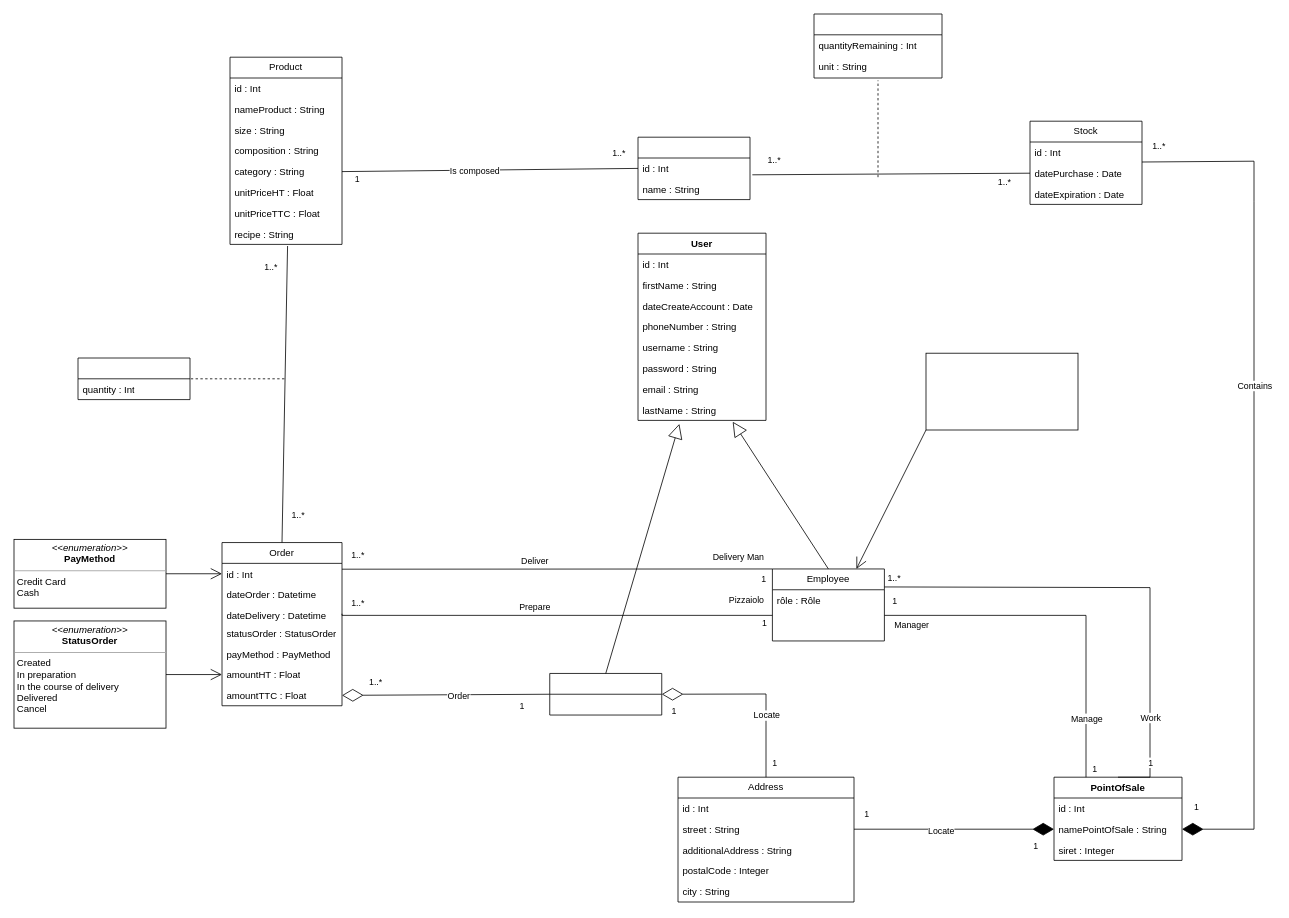
Image size: 1289x918. Some labels were removed from this diagram. The shapes that lost their labels are listed below. From the top down, each one's box as (x1, y1, x2, y2) in pixels, then its label:
(813, 13, 942, 78): IngredientStock
(637, 136, 750, 200): Ingredient
(77, 357, 190, 400): OrderProduct
(925, 352, 1078, 430): <<enumeration>> Role Manager Pizzaiolo Delivery Man
(549, 673, 662, 715): Client
